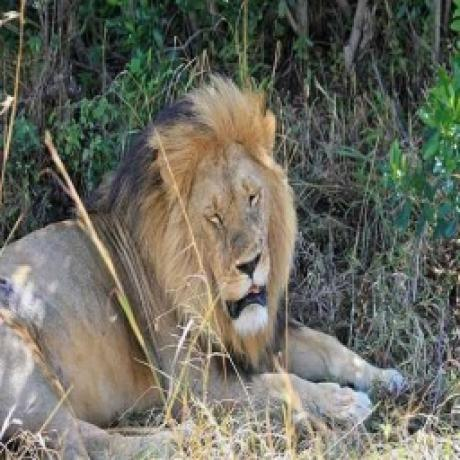Lion: (0, 76, 406, 420)
